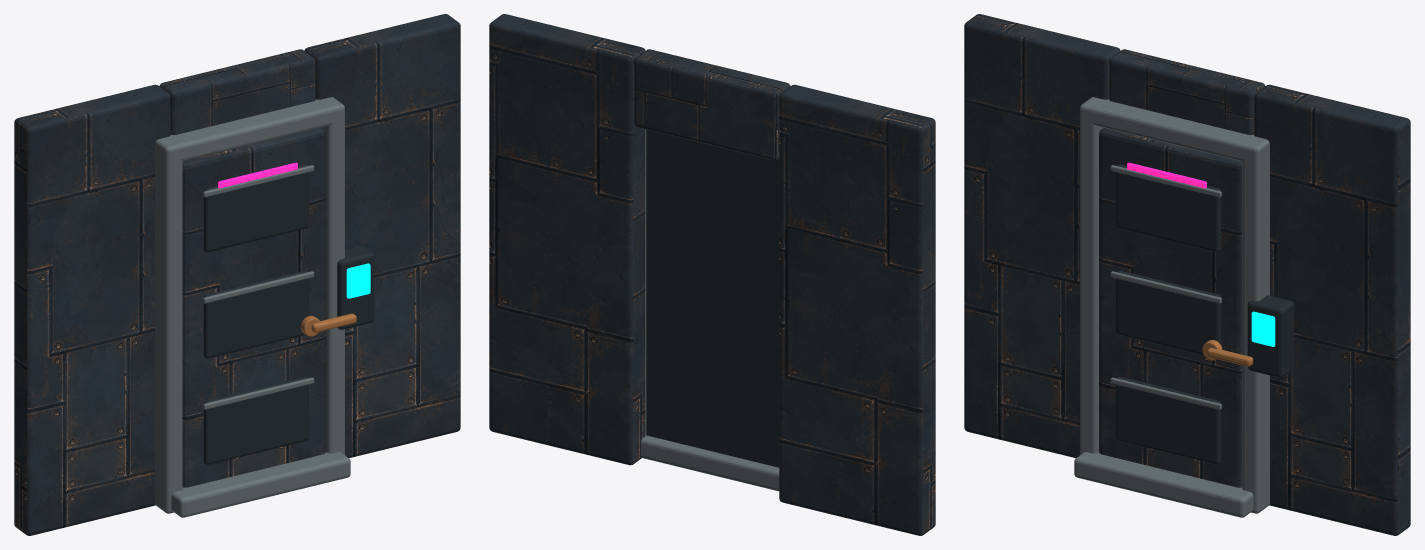
File: APT_Wall_Door_300x270_Service.glb
3 renders of one model, left to right at view 1: azimuth 30°, elevation 25°; view 2: azimuth 150°, elevation 25°; view 3: azimuth 330°, elevation 25°, orthographic.
Visible parts, largest first — view 1: DoorWall_LeftPier, DoorWall_RightPier, Door_Leaf, Door_Frame_-0.56, DoorWall_Header, Door_Inset_0.48, Door_Inset_1.18, Door_Inset_1.88, Door_Frame_0.56, Door_Threshold, Door_FrameTop, Door_AccessHousing (+5 smaller); view 2: DoorWall_LeftPier, DoorWall_RightPier, Door_ShadowGap, DoorWall_Header, Door_Threshold, Door_Frame_0.56; view 3: DoorWall_RightPier, DoorWall_LeftPier, Door_Leaf, DoorWall_Header, Door_Frame_0.56, Door_Frame_-0.56, Door_Inset_0.48, Door_Inset_1.88, Door_Inset_1.18, Door_Threshold, Door_FrameTop, Door_AccessHousing (+5 smaller).
Part boxes in pixels (left/top/right/bottom): DoorWall_LeftPier: left=14, top=84, right=170, bottom=535; DoorWall_RightPier: left=304, top=14, right=460, bottom=457; Door_Leaf: left=182, top=127, right=325, bottom=487; Door_Frame_-0.56: left=155, top=153, right=182, bottom=513; DoorWall_Header: left=159, top=49, right=315, bottom=134; Door_Inset_0.48: left=203, top=376, right=308, bottom=464; Door_Inset_1.18: left=203, top=270, right=308, bottom=358; Door_Inset_1.88: left=203, top=164, right=308, bottom=252; Door_Frame_0.56: left=322, top=118, right=344, bottom=454; Door_Threshold: left=171, top=452, right=350, bottom=517; Door_FrameTop: left=155, top=97, right=344, bottom=162; Door_AccessHousing: left=337, top=245, right=374, bottom=329; DoorWall_LeftPier: left=779, top=84, right=935, bottom=535; DoorWall_RightPier: left=489, top=14, right=645, bottom=465; Door_ShadowGap: left=646, top=129, right=779, bottom=467; DoorWall_Header: left=634, top=49, right=790, bottom=160; Door_Threshold: left=641, top=435, right=779, bottom=491; Door_Frame_0.56: left=645, top=129, right=646, bottom=435; DoorWall_RightPier: left=1254, top=84, right=1410, bottom=535; DoorWall_LeftPier: left=964, top=14, right=1120, bottom=457; Door_Leaf: left=1099, top=127, right=1242, bottom=487; DoorWall_Header: left=1109, top=49, right=1265, bottom=134; Door_Frame_0.56: left=1242, top=153, right=1269, bottom=513; Door_Frame_-0.56: left=1080, top=118, right=1102, bottom=454; Door_Inset_0.48: left=1116, top=376, right=1221, bottom=464; Door_Inset_1.88: left=1116, top=164, right=1221, bottom=252; Door_Inset_1.18: left=1116, top=270, right=1221, bottom=355; Door_Threshold: left=1074, top=452, right=1253, bottom=517; Door_FrameTop: left=1080, top=97, right=1269, bottom=161; Door_AccessHousing: left=1247, top=295, right=1294, bottom=377.
Size of the model in its own units: 3 by 2.7 by 0.44.
6 materials, 1 textured.
